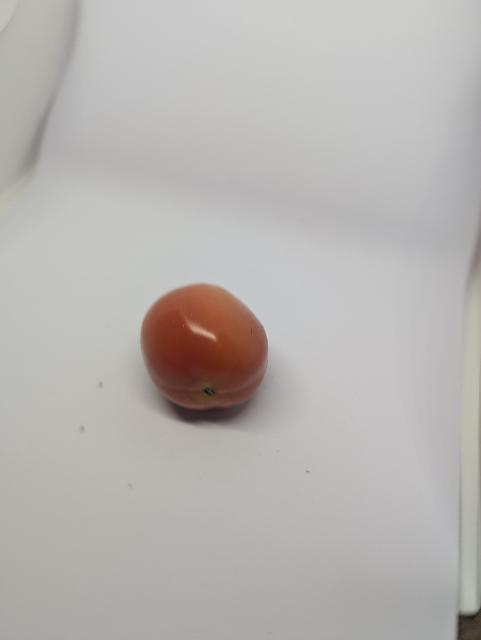red: (137, 283, 273, 415)
